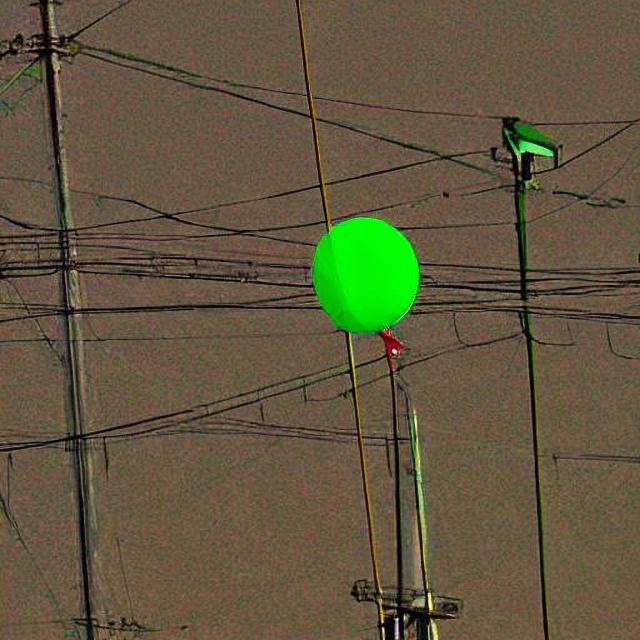balloon: (304, 209, 420, 339)
